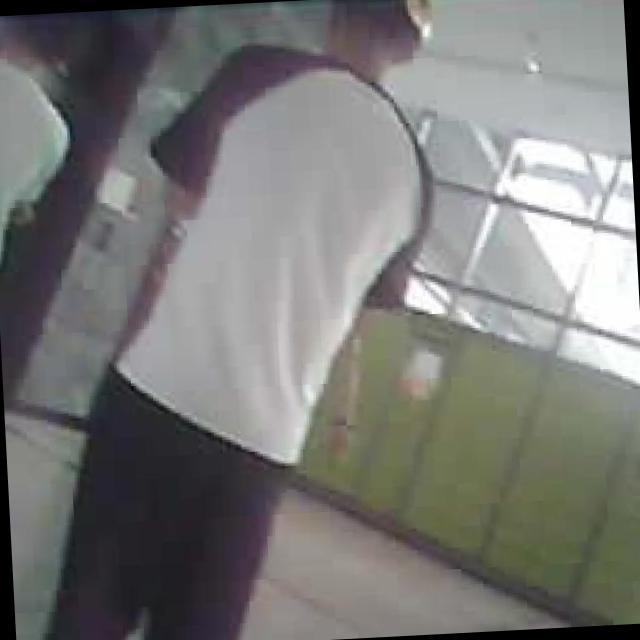person: (3, 1, 465, 640)
